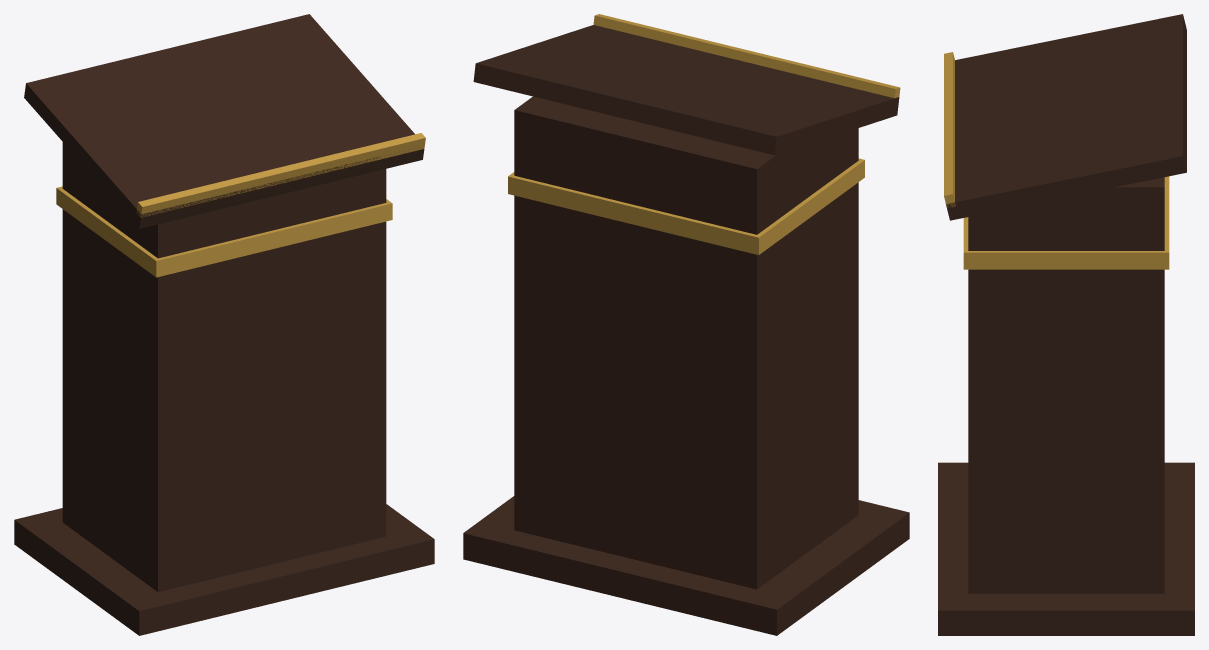
File: podium_stand.glb
The picture shows the model from 3 angles, left to right: view 1: azimuth 30°, elevation 25°; view 2: azimuth 150°, elevation 25°; view 3: azimuth 270°, elevation 25°; orthographic projection. The views are drawn at different scales.
Visible parts, largest first — view 1: Podium; view 2: Podium; view 3: Podium.
Boxes of the visible parts, x1,y1,x2,y2 form: Podium: [14, 14, 434, 635]; Podium: [463, 14, 909, 635]; Podium: [938, 14, 1194, 635].
Size of the model in its own units: 0.75 by 1.13 by 0.55.
